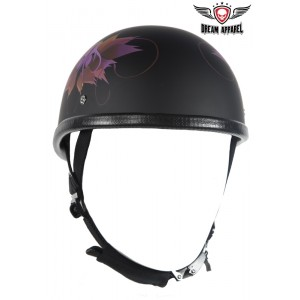with_helmet: (49, 24, 255, 170)
